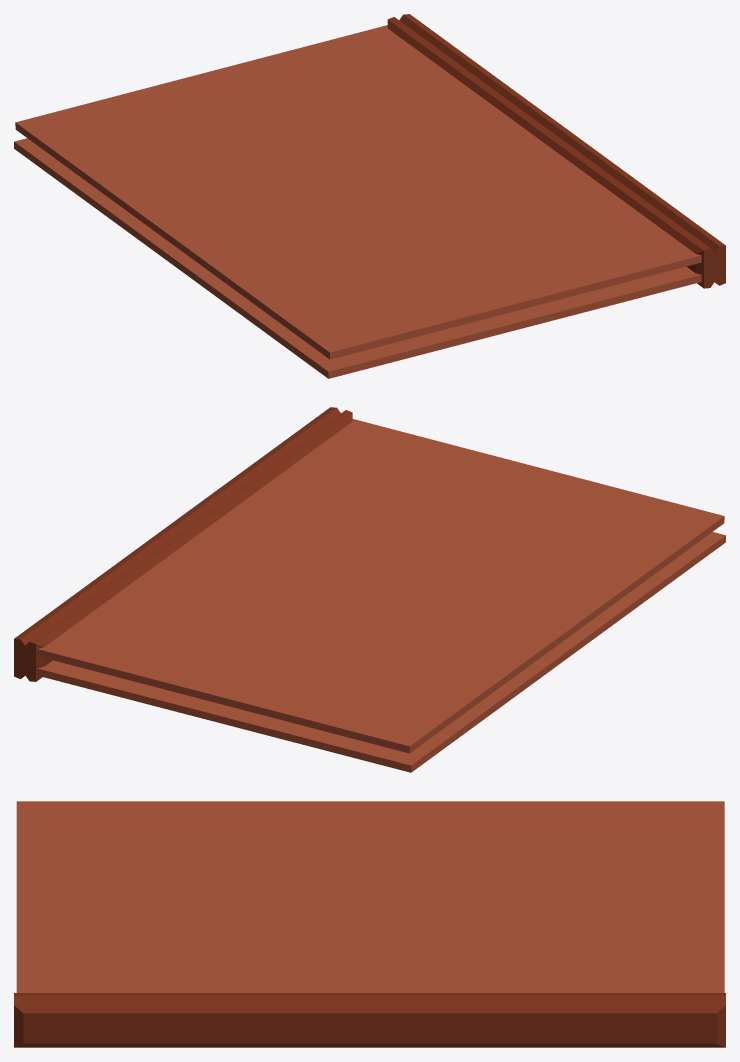
Rendered from Book.fbx.
3 views of the same model, one above another, from view 1: azimuth 30°, elevation 25°; view 2: azimuth 150°, elevation 25°; view 3: azimuth 270°, elevation 25° (orthographic). The views are drawn at different scales.
Parts seen in each view (by area): view 1: FrontCover, backCover, Spine2; view 2: FrontCover, backCover, Spine2; view 3: FrontCover, Spine2.
Boxes of the visible parts, box(x1,y1,x2,y2) form: FrontCover: box(15, 25, 701, 359); backCover: box(14, 138, 701, 378); Spine2: box(387, 14, 725, 288); FrontCover: box(37, 419, 724, 753); backCover: box(37, 532, 725, 772); Spine2: box(14, 407, 352, 681); FrontCover: box(16, 801, 724, 992); Spine2: box(14, 993, 725, 1047).
Size of the model in its own units: 6.83 by 0.6486 by 9.34.
1 material, 1 textured.
